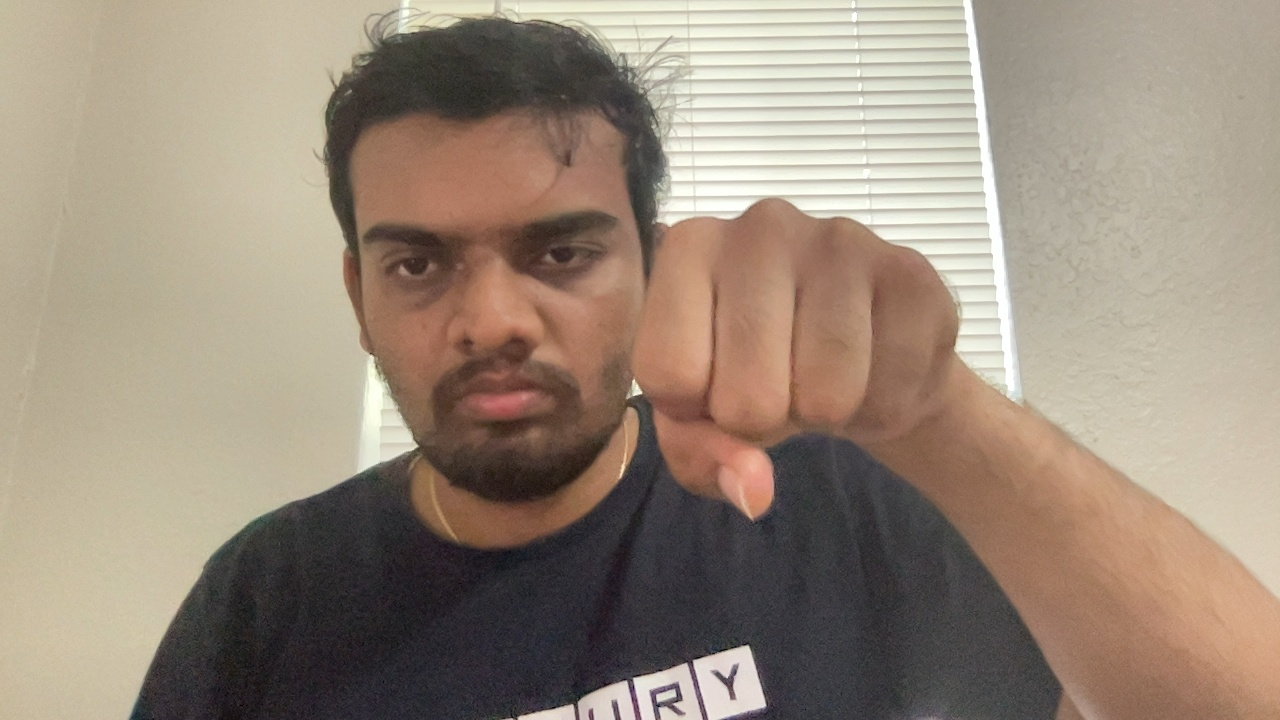yes: (633, 178, 975, 541)
